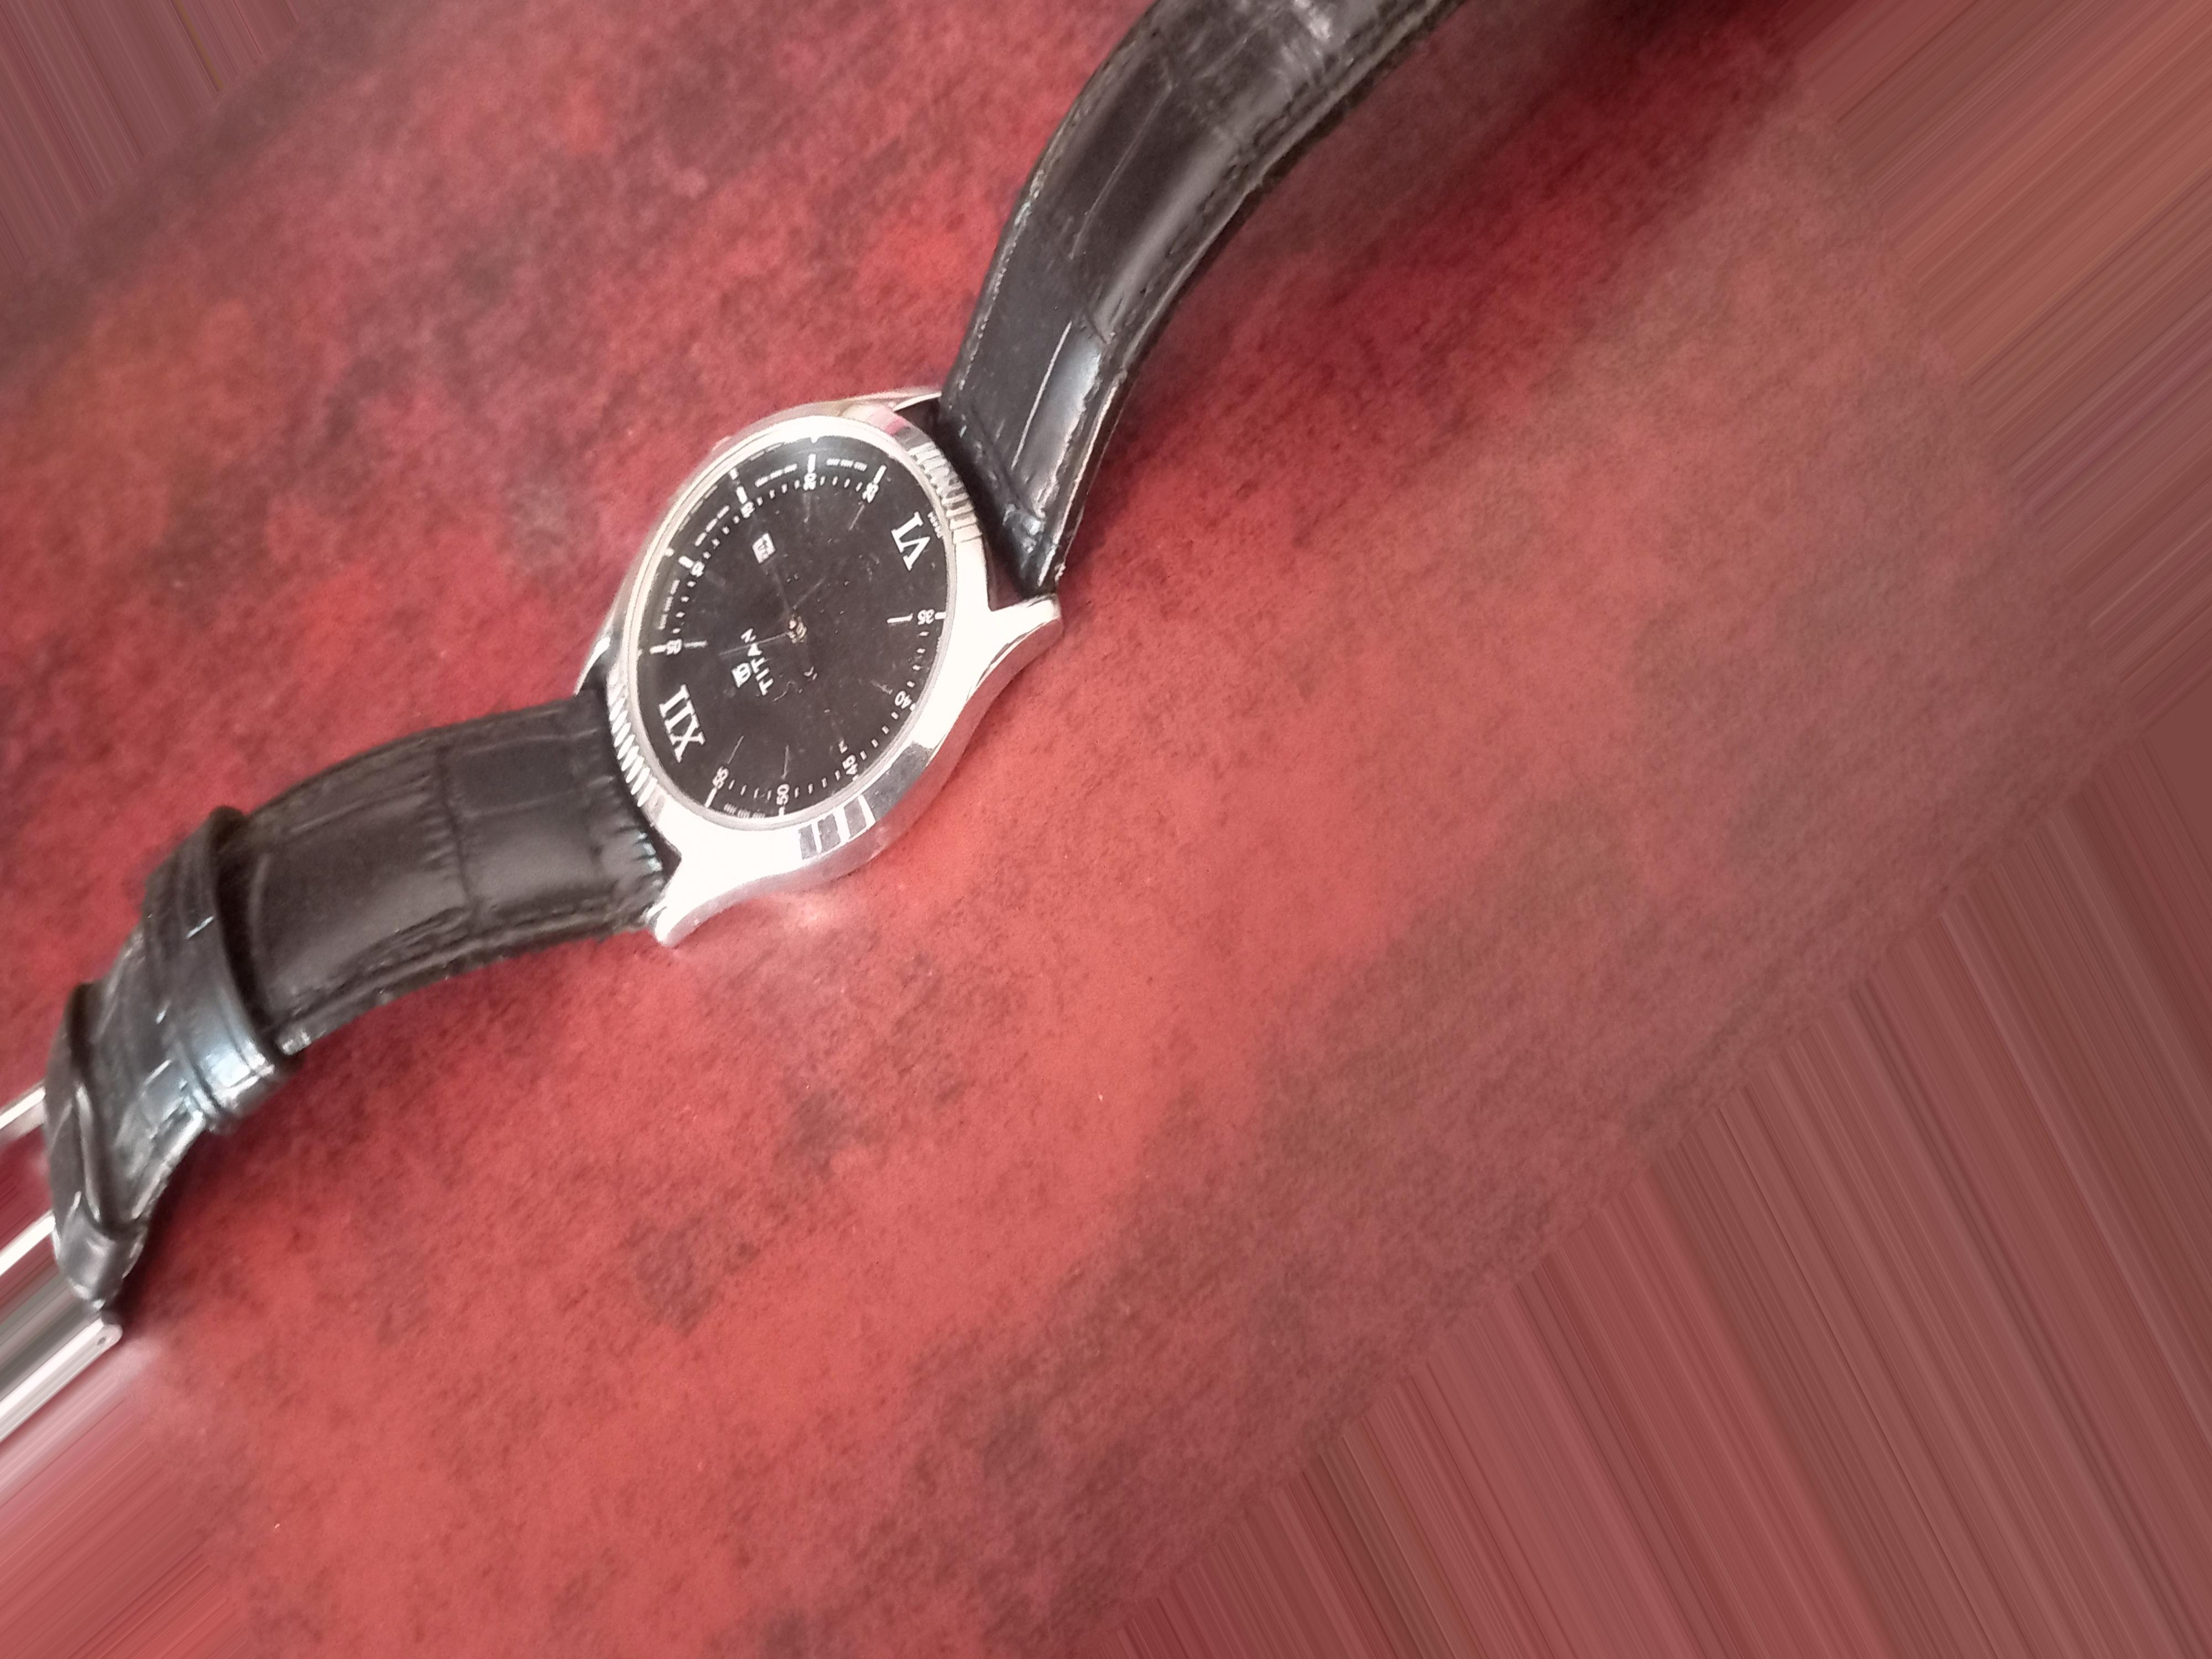watch: (0, 389, 1008, 1145)
